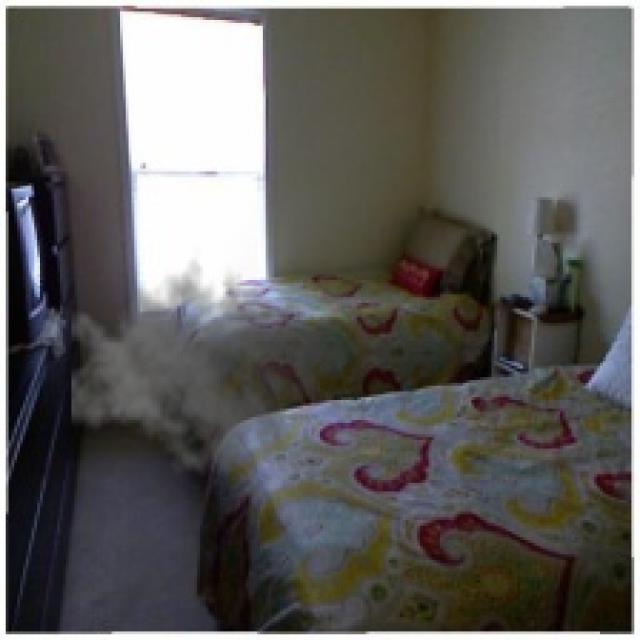smoke: (72, 245, 328, 486)
